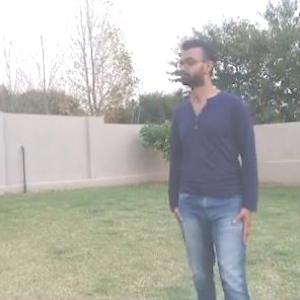follow: (166, 36, 264, 299)
